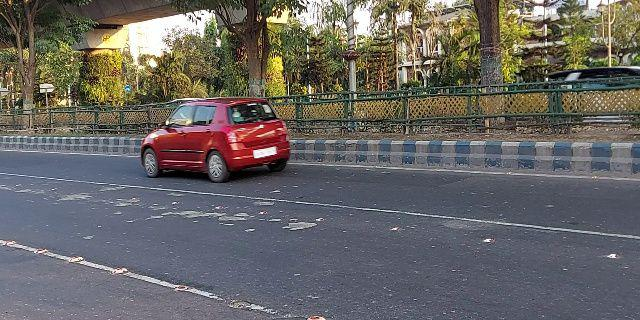Car: (137, 94, 294, 185)
